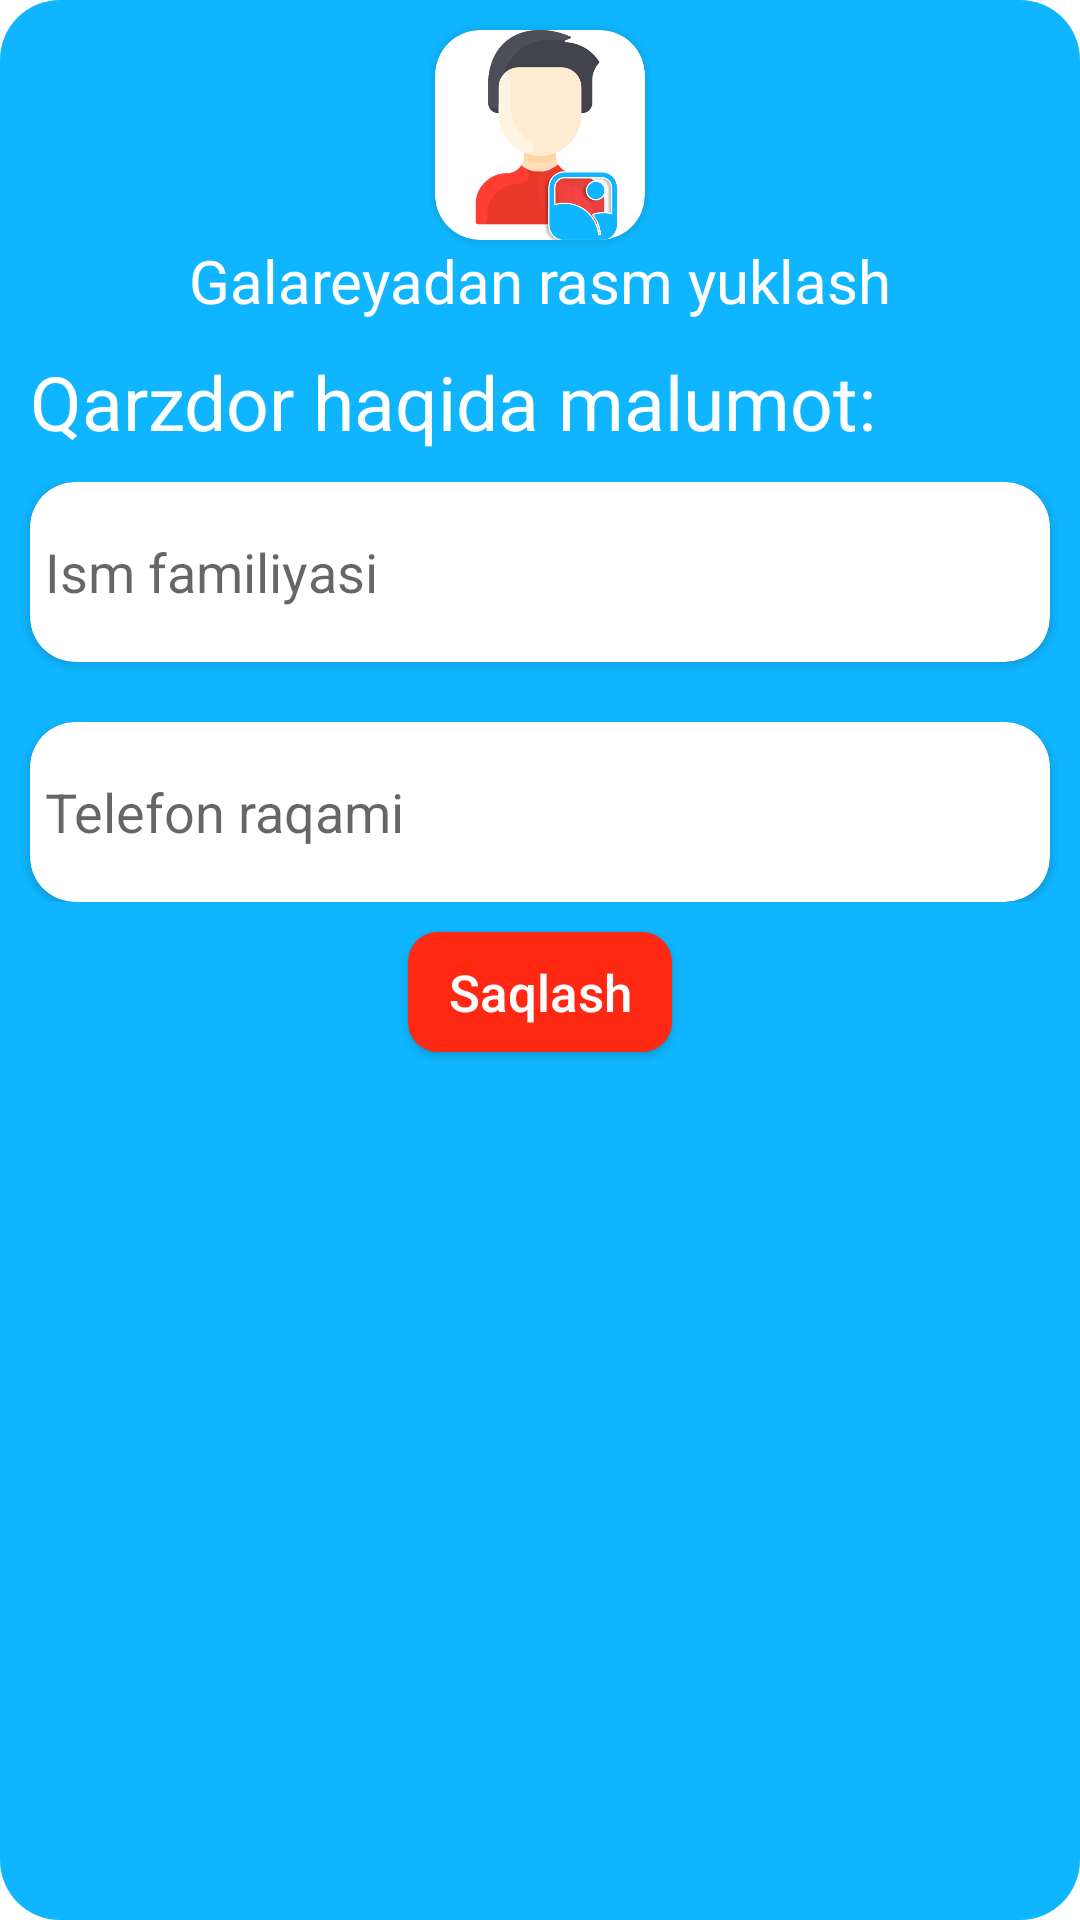

Locate icon controls on the screen. Image size 1080px×1920px, boxes as bbox=(x1, y1, x2, y2).
man: bbox=(435, 30, 645, 240)
